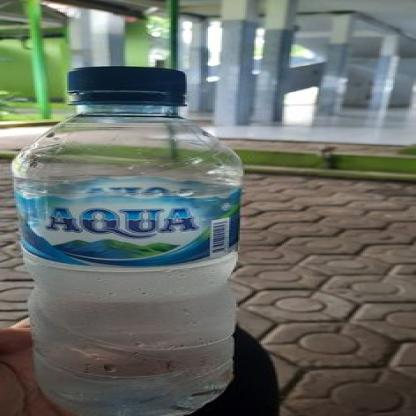plastic_bottles: (6, 61, 248, 416)
